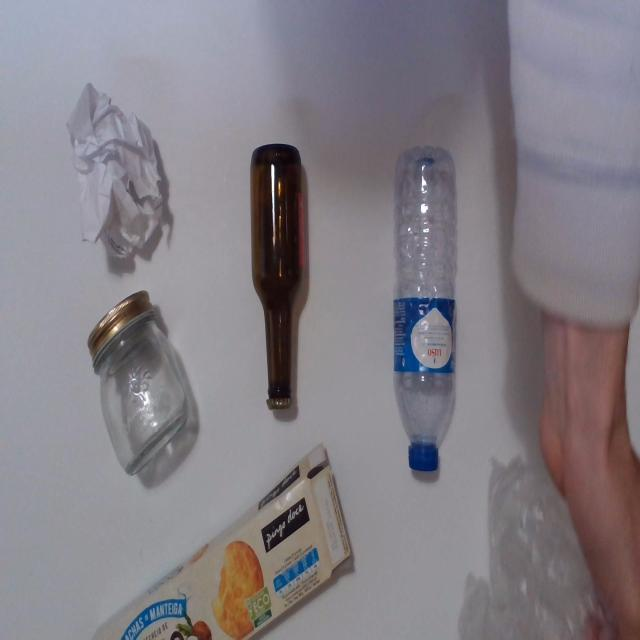Cardboard: (81, 450, 354, 640)
Glass: (99, 316, 192, 477), (248, 142, 305, 401)
Paper: (71, 81, 167, 271)
Plastic: (394, 142, 458, 478)
